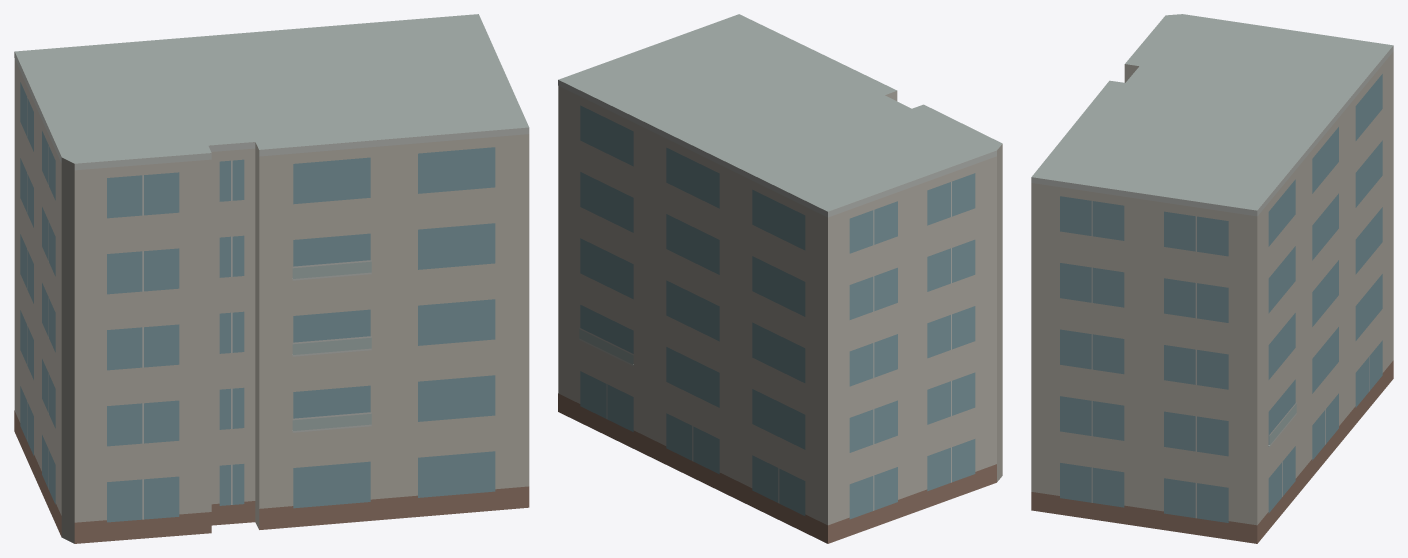
Rendered from survey-upis-32951724.glb.
3 views of the same model, side by side, from view 1: azimuth 30°, elevation 25°; view 2: azimuth 150°, elevation 25°; view 3: azimuth 270°, elevation 25° (orthographic). The views are drawn at different scales.
Visible parts, largest first — view 1: survey-upis-32951724.tmp; view 2: survey-upis-32951724.tmp; view 3: survey-upis-32951724.tmp.
Boxes of the visible parts, box(x1,y1,x2,y2) form: survey-upis-32951724.tmp: box(14, 14, 529, 543); survey-upis-32951724.tmp: box(558, 14, 1002, 543); survey-upis-32951724.tmp: box(1031, 14, 1393, 543).
Bounding box in the file's own units: 17.72 × 14 × 13.8.
